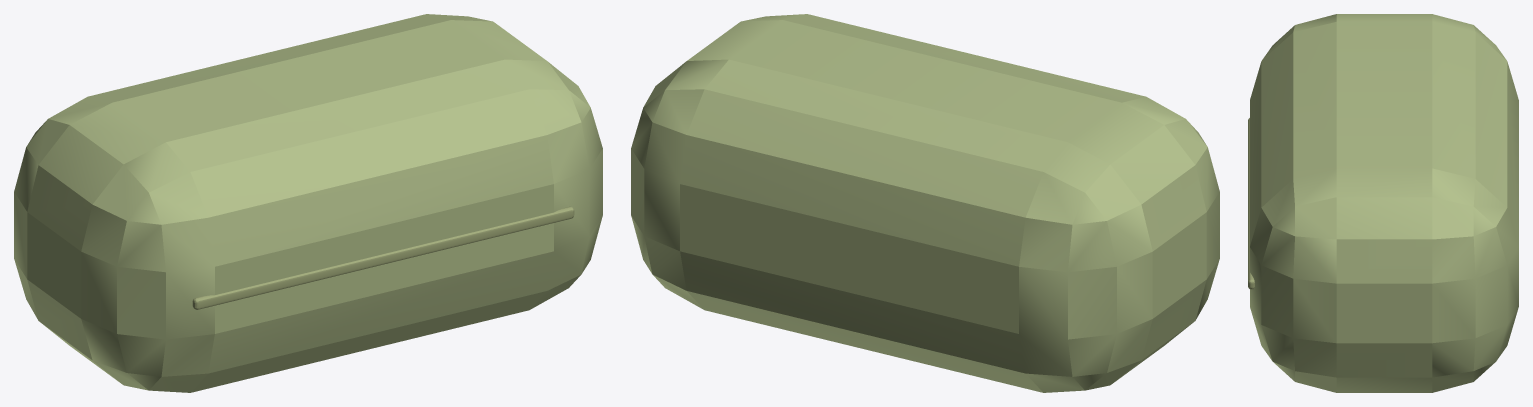
Rendered from sandbag.glb.
3 views of the same model, side by side, from view 1: azimuth 30°, elevation 25°; view 2: azimuth 150°, elevation 25°; view 3: azimuth 270°, elevation 25° (orthographic). The views are drawn at different scales.
Visible parts, largest first — view 1: Sandbag, StitchedSeam; view 2: Sandbag; view 3: Sandbag, StitchedSeam.
Part boxes in pixels (bbox=[...]): Sandbag: bbox=[14, 14, 602, 392]; StitchedSeam: bbox=[192, 206, 574, 309]; Sandbag: bbox=[631, 14, 1219, 392]; Sandbag: bbox=[1250, 14, 1518, 392]; StitchedSeam: bbox=[1248, 118, 1254, 289].
Bounding box in the file's own units: 0.87 × 0.4 × 0.453.
